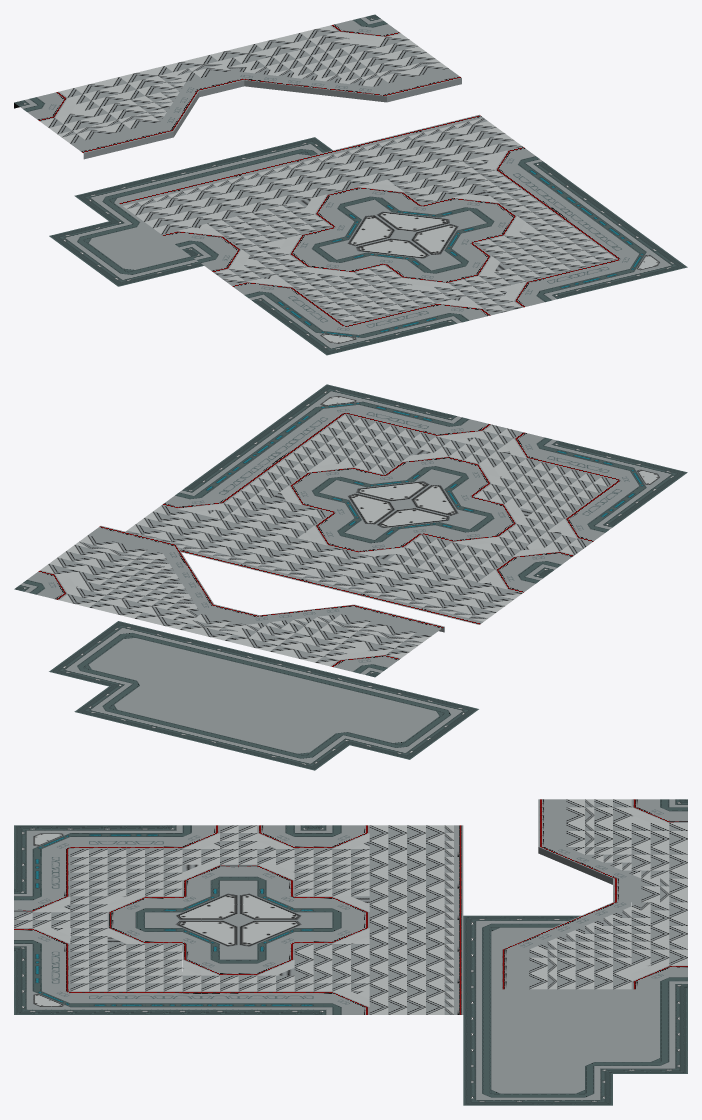
File: CommandRoom.fbx
3 views of the same model, one above another, from view 1: azimuth 30°, elevation 25°; view 2: azimuth 150°, elevation 25°; view 3: azimuth 270°, elevation 25° (orthographic). The views are drawn at different scales.
Visible parts, largest first — view 1: SolCommandRoom, SolCommandRoom.001, SolCommandRoom.003; view 2: SolCommandRoom, SolCommandRoom.003, SolCommandRoom.001; view 3: SolCommandRoom, SolCommandRoom.003, SolCommandRoom.001.
Boxes of the visible parts, x1,y1,x2,y2 form: SolCommandRoom: (118,114,687,355); SolCommandRoom.001: (14,14,461,159); SolCommandRoom.003: (49,137,332,286); SolCommandRoom: (126,384,687,624); SolCommandRoom.003: (49,621,478,770); SolCommandRoom.001: (14,526,444,677); SolCommandRoom: (14,825,463,1014); SolCommandRoom.003: (463,915,687,1105); SolCommandRoom.001: (500,799,687,989).
Size of the model in its own units: 1800 by 2700 by 514.
